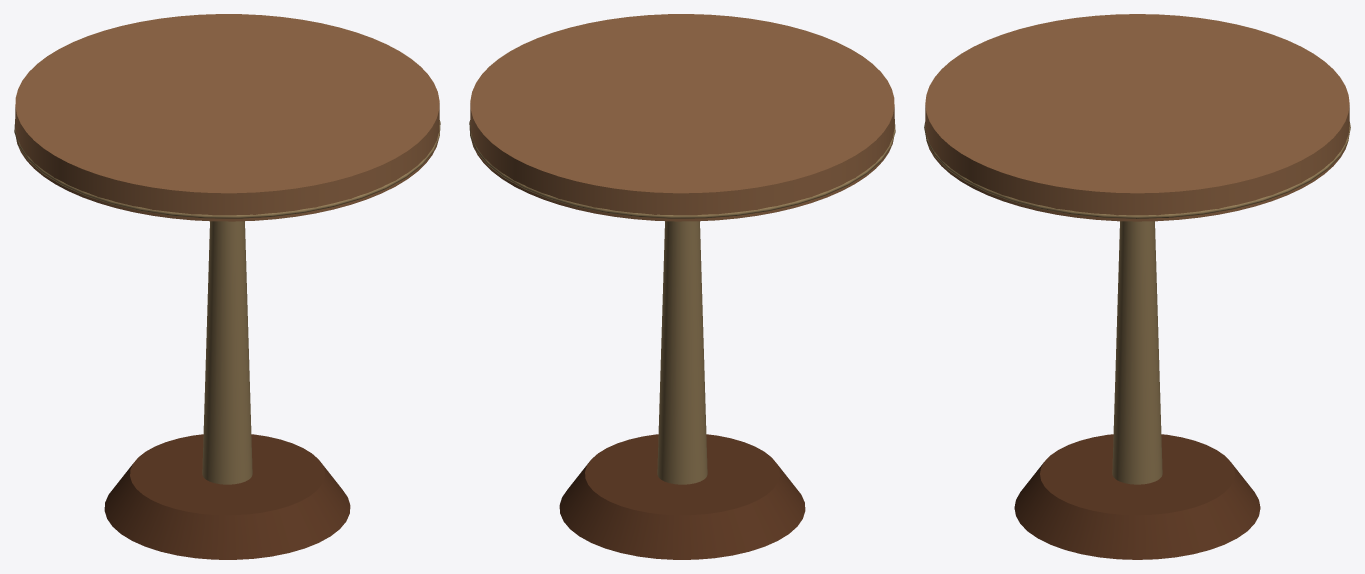
Rendered from bar-drinks-table.glb.
3 renders of one model, left to right at view 1: azimuth 30°, elevation 25°; view 2: azimuth 150°, elevation 25°; view 3: azimuth 270°, elevation 25°, orthographic.
Visible parts, largest first — view 1: part::bar-drinks-table/round-honed-top-001, part::bar-drinks-table/splayed-pedestal-foot-001, part::bar-drinks-table/tapered-pedestal-001, part::bar-drinks-table/brass-tabletop-reveal-001; view 2: part::bar-drinks-table/round-honed-top-001, part::bar-drinks-table/splayed-pedestal-foot-001, part::bar-drinks-table/tapered-pedestal-001, part::bar-drinks-table/brass-tabletop-reveal-001; view 3: part::bar-drinks-table/round-honed-top-001, part::bar-drinks-table/splayed-pedestal-foot-001, part::bar-drinks-table/tapered-pedestal-001, part::bar-drinks-table/brass-tabletop-reveal-001.
Boxes of the visible parts, x1,y1,x2,y2 form: part::bar-drinks-table/round-honed-top-001: [15, 14, 439, 221]; part::bar-drinks-table/splayed-pedestal-foot-001: [104, 434, 350, 559]; part::bar-drinks-table/tapered-pedestal-001: [202, 221, 252, 484]; part::bar-drinks-table/brass-tabletop-reveal-001: [14, 119, 440, 218]; part::bar-drinks-table/round-honed-top-001: [470, 14, 894, 221]; part::bar-drinks-table/splayed-pedestal-foot-001: [559, 434, 805, 559]; part::bar-drinks-table/tapered-pedestal-001: [657, 221, 707, 484]; part::bar-drinks-table/brass-tabletop-reveal-001: [469, 119, 895, 218]; part::bar-drinks-table/round-honed-top-001: [925, 14, 1349, 221]; part::bar-drinks-table/splayed-pedestal-foot-001: [1014, 434, 1260, 559]; part::bar-drinks-table/tapered-pedestal-001: [1112, 221, 1162, 484]; part::bar-drinks-table/brass-tabletop-reveal-001: [924, 122, 1350, 218].
Bounding box in the file's own units: 0.684 × 0.715 × 0.684.
